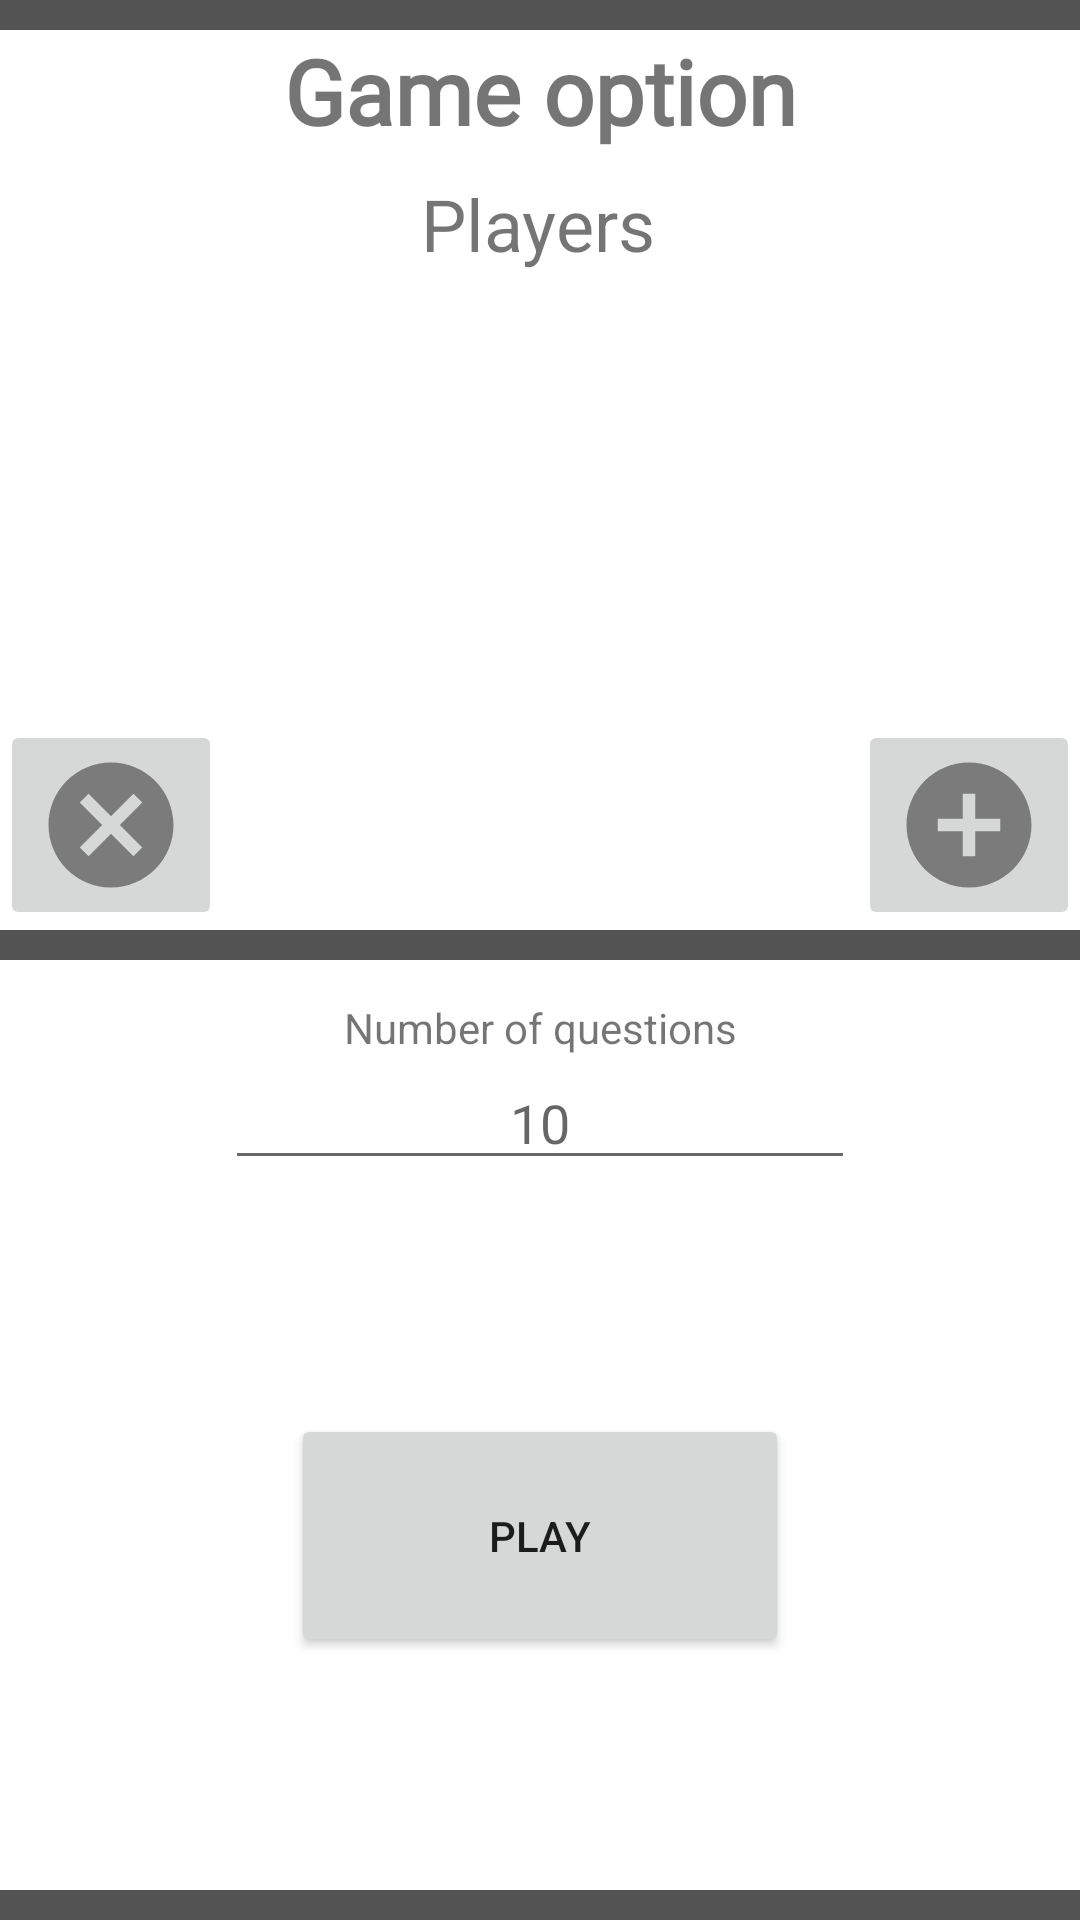

Locate icon controls on the screen. Image size 1080*1920, boxes as (x1, y1, x2, y2).
add Player name: (870, 738, 1068, 912)
cancel: (12, 738, 210, 912)
